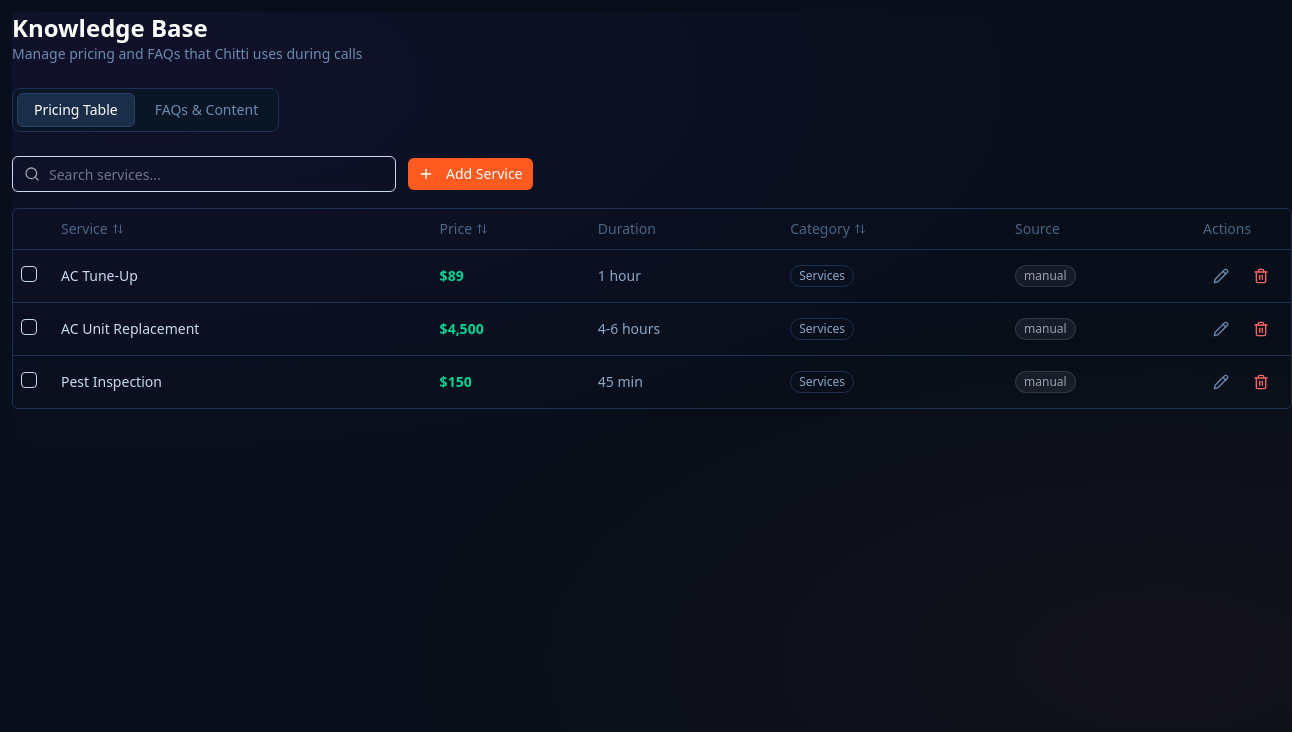
Test case: KnowledgeBasePage › should switch to FAQs tab when clicked
Check: the button "Pricing Table" is shown, box [17, 93, 135, 127]
Click the button "FAQs & Content" at (206, 110), box [139, 94, 274, 126]
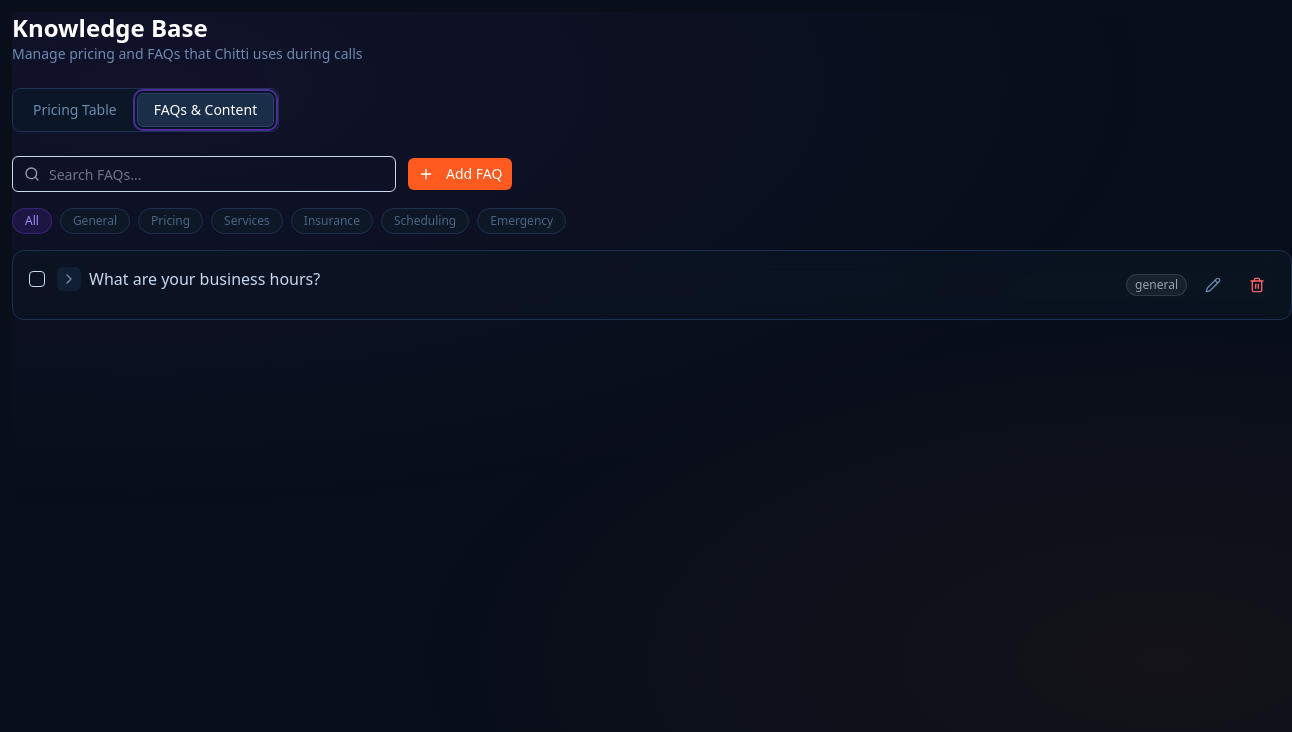
Check: the text "What are your business hours?" is shown, box [89, 267, 320, 291]
